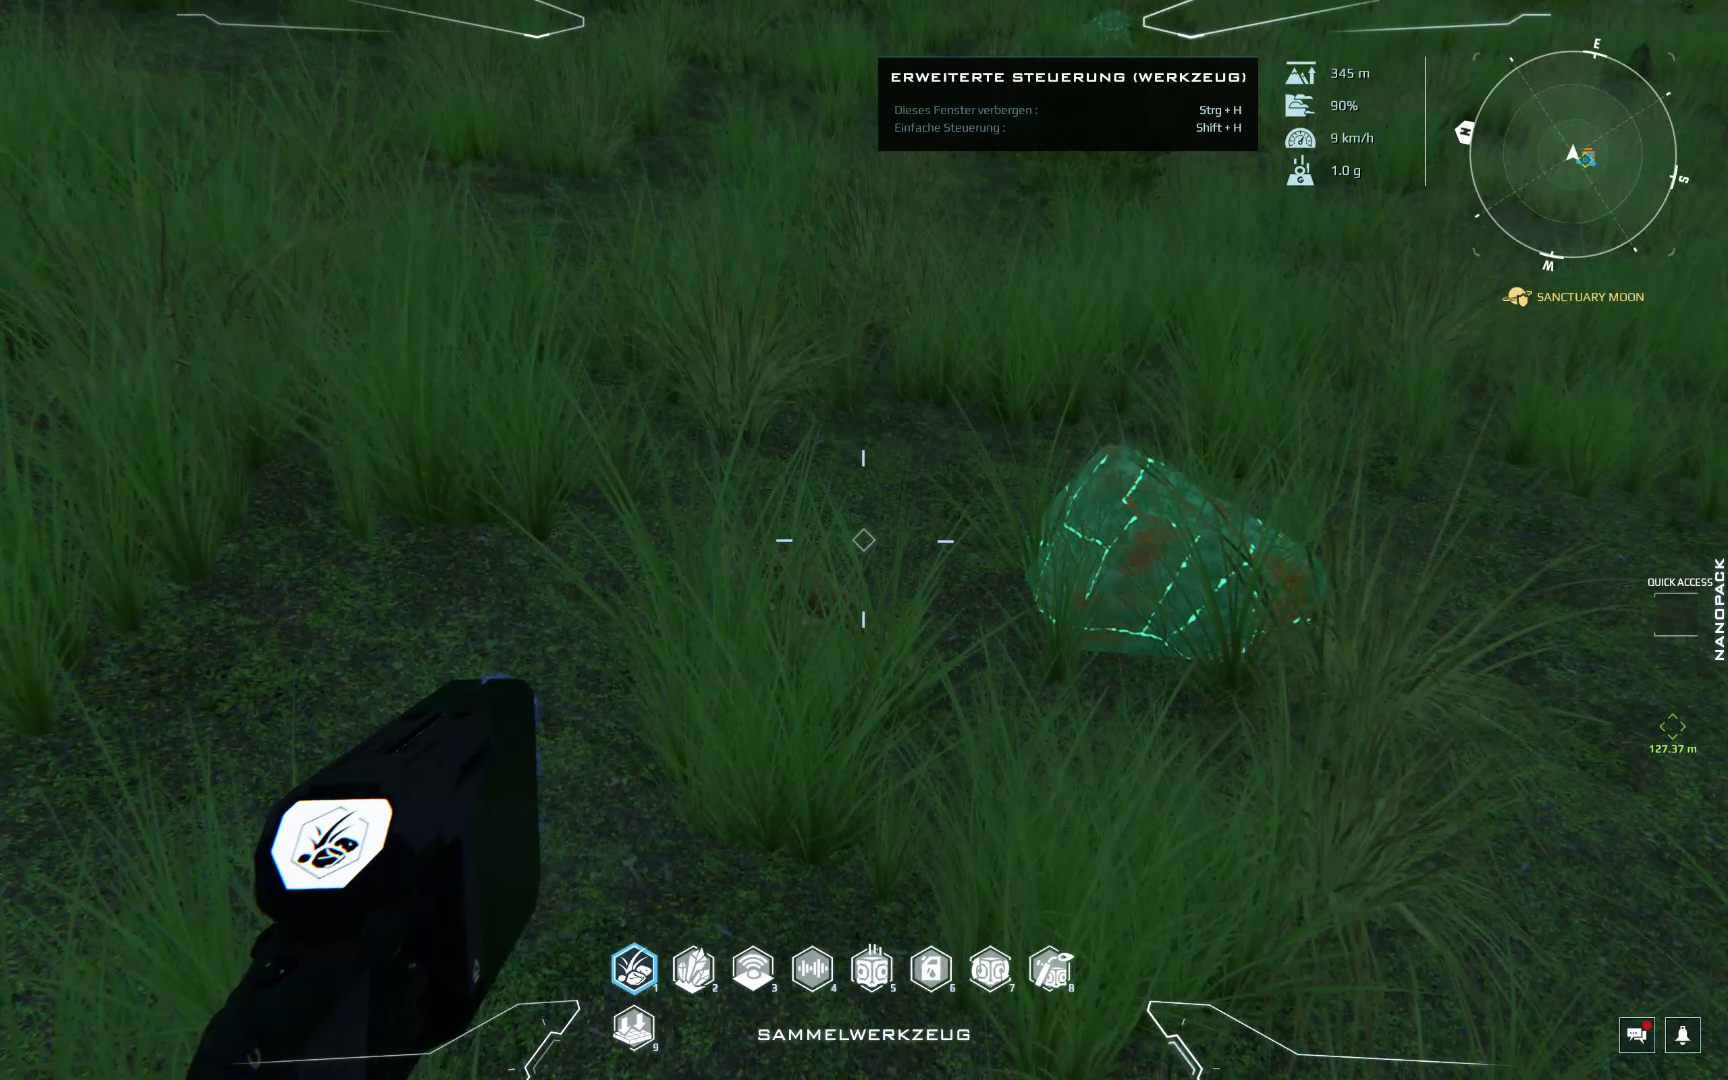Ore: (1023, 445, 1340, 667)
